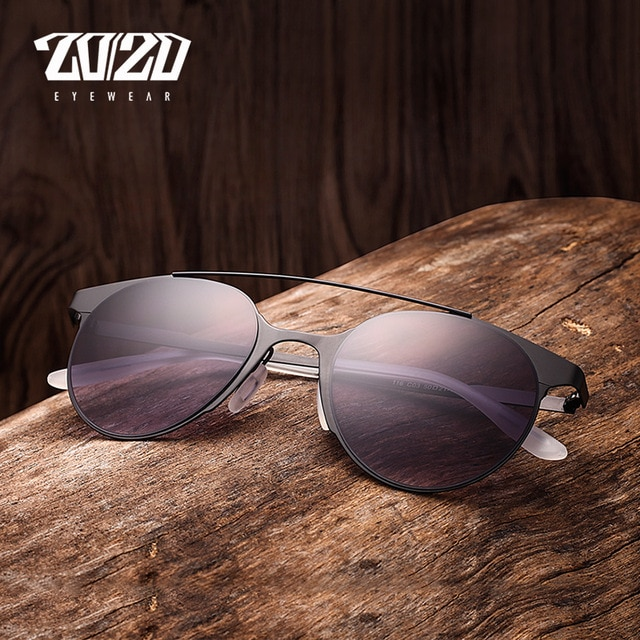sunglasses: (33, 248, 587, 511)
